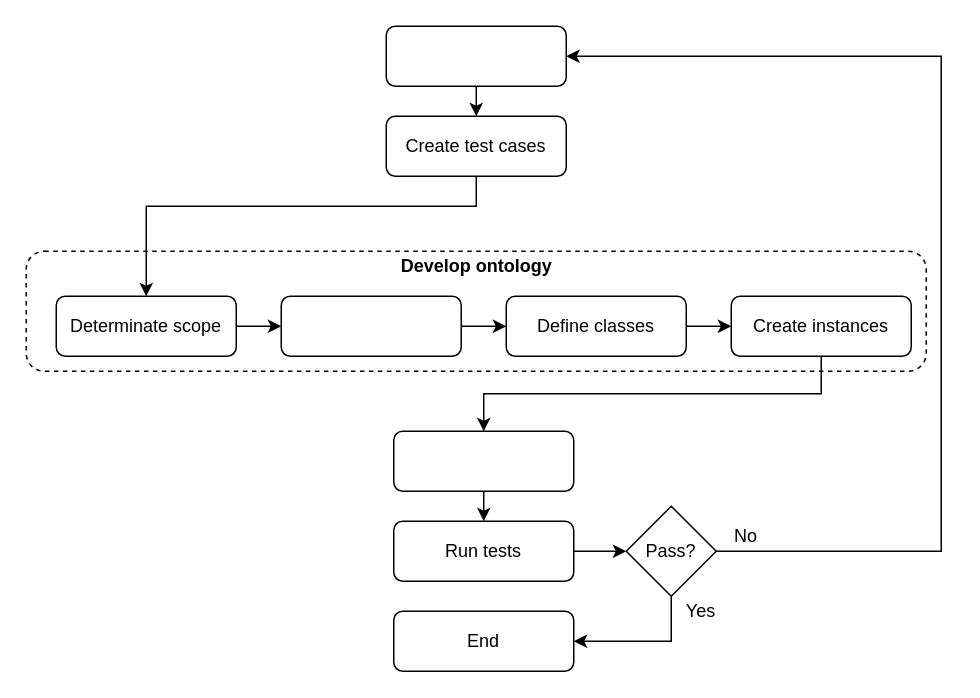
Some shapes in this 980 by 698 pixel diagram are drawn without their labels. The shapes that lost their labels are listed below. From the top down, each one's centre as x and y in pixels, then its label:
point 475,55: Analyse requirements
point 370,325: Reuse existing standars and ontologies
point 483,460: Virtualise resources
